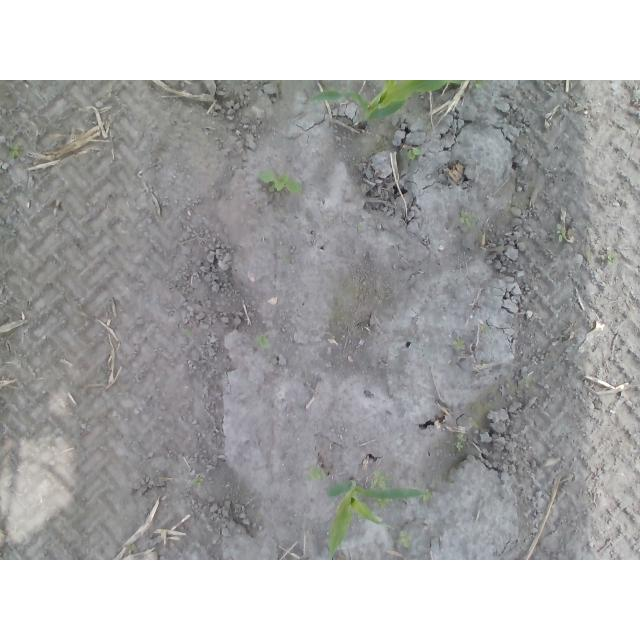Maize: (326, 474, 427, 560), (309, 80, 467, 129)
Weeds: (259, 171, 302, 194), (369, 470, 392, 490), (396, 530, 413, 548), (306, 464, 325, 480), (255, 332, 272, 349), (460, 209, 475, 227), (374, 497, 391, 509), (555, 223, 566, 241), (456, 433, 466, 451), (420, 489, 433, 502), (408, 148, 421, 161), (606, 251, 618, 264), (454, 338, 466, 350), (192, 476, 204, 488), (468, 81, 488, 88), (9, 144, 20, 156), (105, 85, 113, 98), (470, 417, 479, 428), (525, 375, 532, 389), (482, 326, 491, 335), (183, 328, 191, 337), (126, 542, 135, 550), (425, 122, 432, 130), (285, 254, 291, 263), (274, 80, 282, 85)
